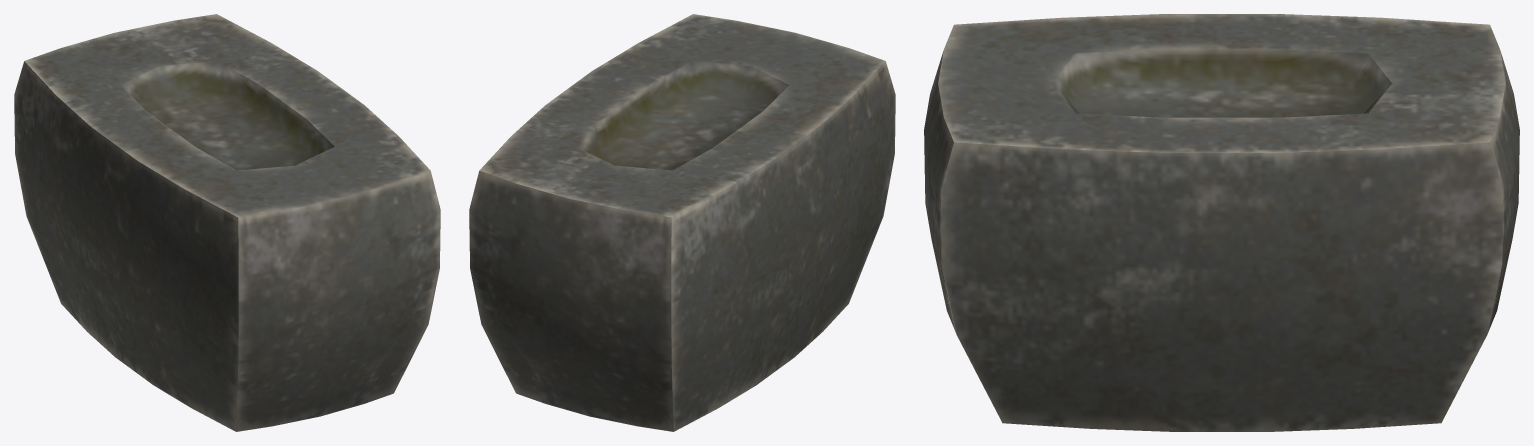
File: JT_Gy_Prp_WaterStone01.fbx
3 views of the same model, side by side, from view 1: azimuth 30°, elevation 25°; view 2: azimuth 150°, elevation 25°; view 3: azimuth 270°, elevation 25° (orthographic). The views are drawn at different scales.
Visible parts, largest first — view 1: JT_Gy_Prp_WaterStone01_LOD0, JT_Gy_Prp_WaterStone01; view 2: JT_Gy_Prp_WaterStone01, JT_Gy_Prp_WaterStone01_LOD0; view 3: JT_Gy_Prp_WaterStone01, JT_Gy_Prp_WaterStone01_LOD0.
Part boxes in pixels (x1,y1,x2,y2): JT_Gy_Prp_WaterStone01_LOD0: [50, 61, 440, 431]; JT_Gy_Prp_WaterStone01: [14, 14, 430, 431]; JT_Gy_Prp_WaterStone01: [469, 61, 895, 431]; JT_Gy_Prp_WaterStone01_LOD0: [541, 14, 895, 430]; JT_Gy_Prp_WaterStone01: [940, 14, 1519, 431]; JT_Gy_Prp_WaterStone01_LOD0: [924, 14, 1519, 431].
Size of what is drawn, in the model's own units: 0.2977 by 0.2776 by 0.5141.
